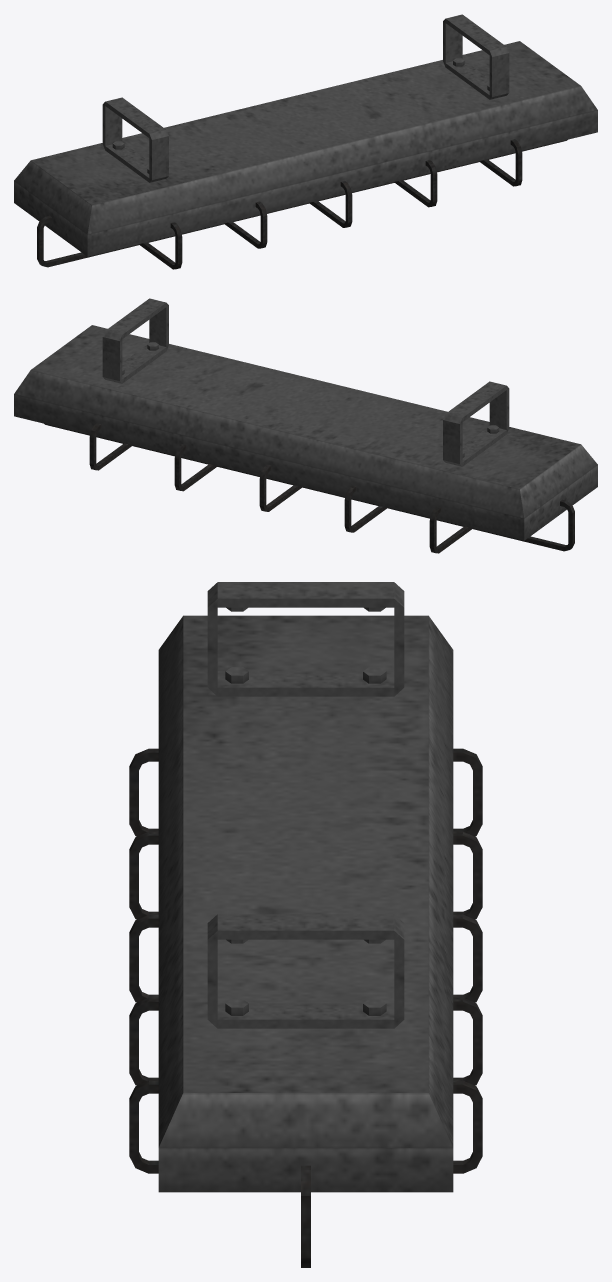
File: ceiling_lamp_4_1_a_off.fbx
3 views of the same model, one above another, from view 1: azimuth 30°, elevation 25°; view 2: azimuth 150°, elevation 25°; view 3: azimuth 270°, elevation 25° (orthographic). The views are drawn at different scales.
Parts seen in each view (by area): view 1: ceiling_lamp_4_1_a_off, ceiling_lamp_4_1_a_off_protector; view 2: ceiling_lamp_4_1_a_off, ceiling_lamp_4_1_a_off_protector; view 3: ceiling_lamp_4_1_a_off, ceiling_lamp_4_1_a_off_protector.
Boxes of the visible parts, x1=… form: ceiling_lamp_4_1_a_off: x1=14, y1=14, x2=597, y2=256; ceiling_lamp_4_1_a_off_protector: x1=37, y1=139, x2=567, y2=269; ceiling_lamp_4_1_a_off: x1=14, y1=298, x2=597, y2=540; ceiling_lamp_4_1_a_off_protector: x1=44, y1=423, x2=574, y2=553; ceiling_lamp_4_1_a_off: x1=158, y1=582, x2=453, y2=1192; ceiling_lamp_4_1_a_off_protector: x1=129, y1=748, x2=482, y2=1267.
Bounding box in the file's own units: 1.26 × 0.29 × 0.36.
2 materials, 2 textured.
